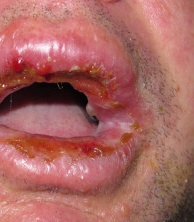SJS-TEN: (0, 48, 141, 184)
